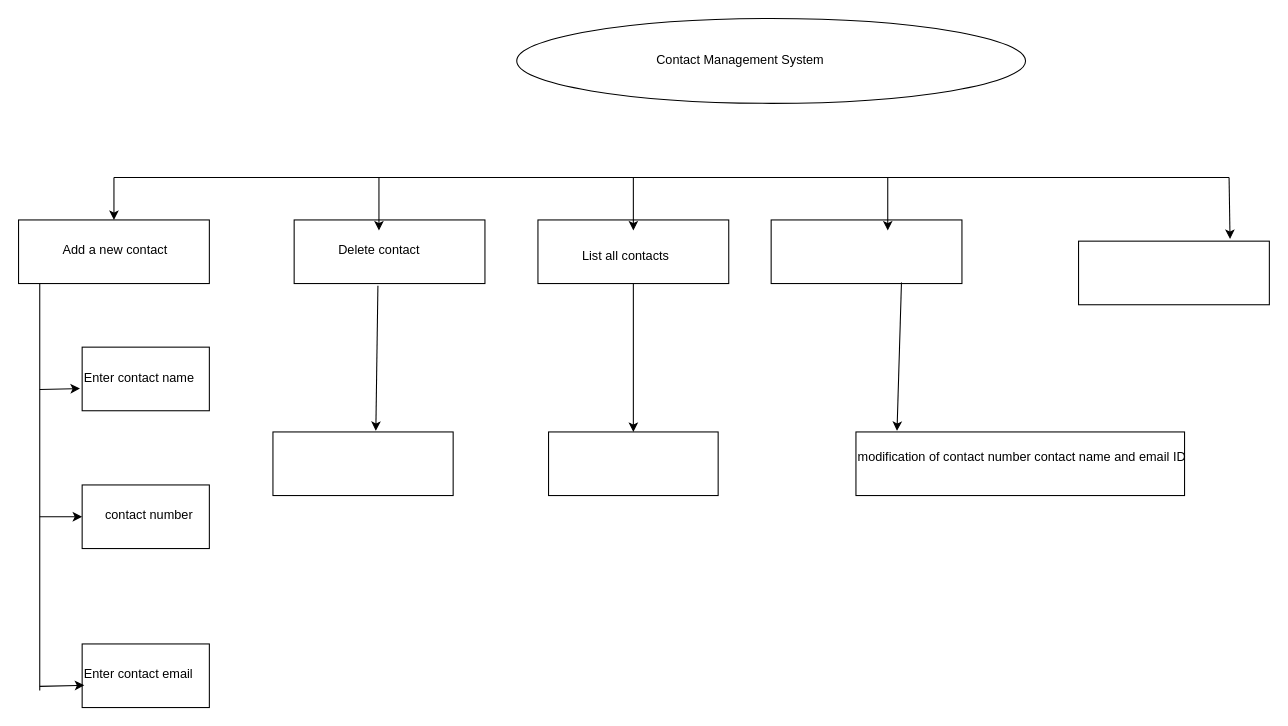
The diagram is 1288 pixels wide and 726 high, and some of its shapes have lost their labels. Each missing label, with the centre of its shape:
"all the contacts by entering contact number" belongs at point (632, 463).
"delete a particular account by entering contact number" belongs at point (362, 463).
"Find a contact by name" belongs at point (1173, 272).
"Modify contact" belongs at point (866, 251).
